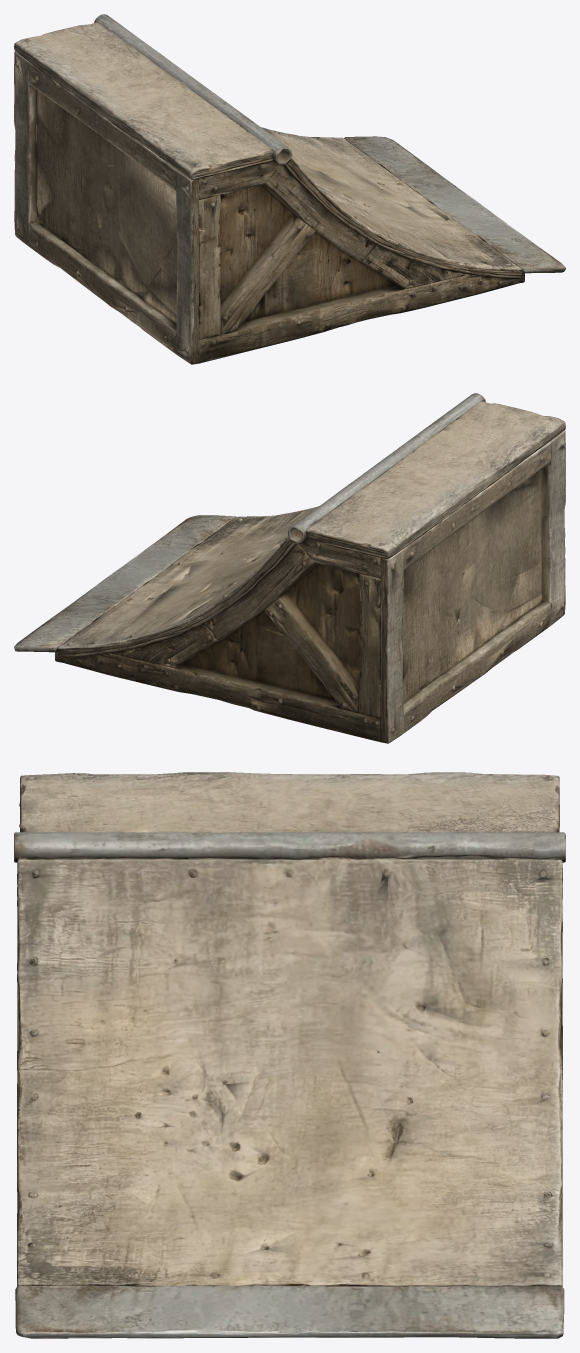
The model's file is CCG_Kicker_web.glb.
3 views of the same model, one above another, from view 1: azimuth 30°, elevation 25°; view 2: azimuth 150°, elevation 25°; view 3: azimuth 270°, elevation 25° (orthographic). The views are drawn at different scales.
Parts seen in each view (by area): view 1: tripo_node_7a905d2e-6a03-498a-a62b-924e17e20fdc; view 2: tripo_node_7a905d2e-6a03-498a-a62b-924e17e20fdc; view 3: tripo_node_7a905d2e-6a03-498a-a62b-924e17e20fdc.
Part boxes in pixels (x1,y1,x2,y2): tripo_node_7a905d2e-6a03-498a-a62b-924e17e20fdc: [14, 14, 565, 364]; tripo_node_7a905d2e-6a03-498a-a62b-924e17e20fdc: [14, 393, 565, 743]; tripo_node_7a905d2e-6a03-498a-a62b-924e17e20fdc: [14, 772, 565, 1338].
Size of the model in its own units: 0.9786 by 0.4931 by 0.8188.
1 material, 1 textured.
